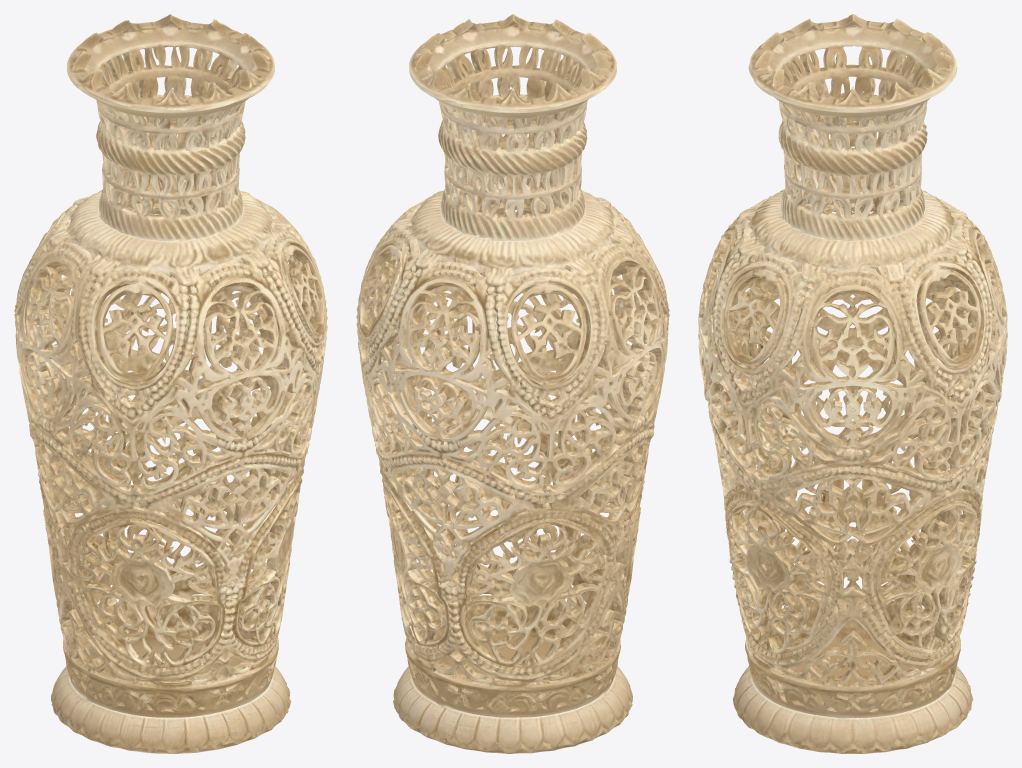
The model's file is Decorative Vase2.glb.
3 views of the same model, side by side, from view 1: azimuth 30°, elevation 25°; view 2: azimuth 150°, elevation 25°; view 3: azimuth 270°, elevation 25° (orthographic).
Parts seen in each view (by area): view 1: output; view 2: output; view 3: output.
Boxes of the visible parts, x1=… form: output: x1=14, y1=14, x2=327, y2=753; output: x1=356, y1=14, x2=669, y2=753; output: x1=698, y1=14, x2=1007, y2=753.
Size of the model in its own units: 0.8103 by 1.9 by 0.8115.
1 material, 1 textured.
